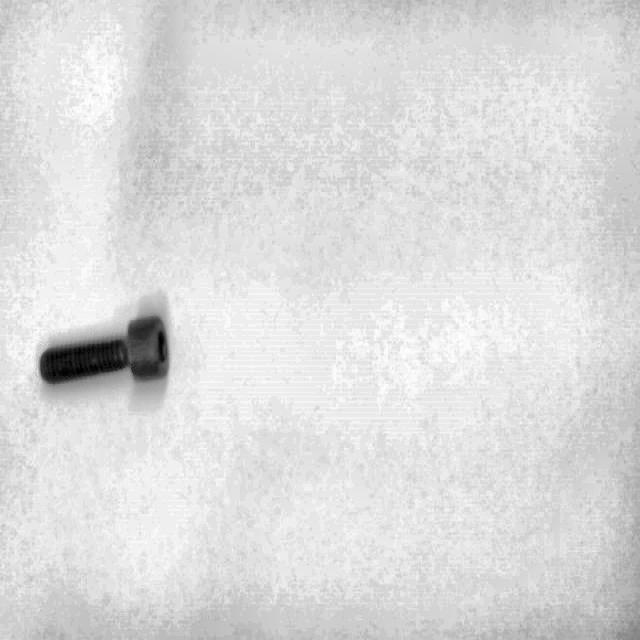Socket head cap screw: (38, 312, 170, 387)
